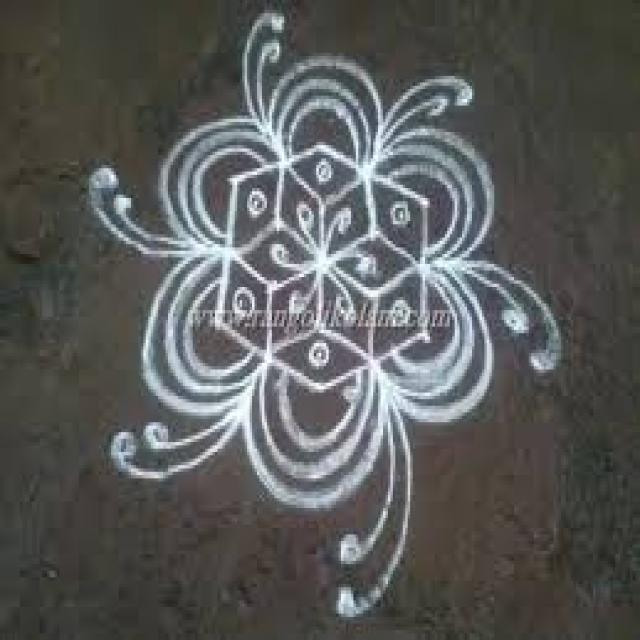rangoli: (91, 9, 564, 616)
